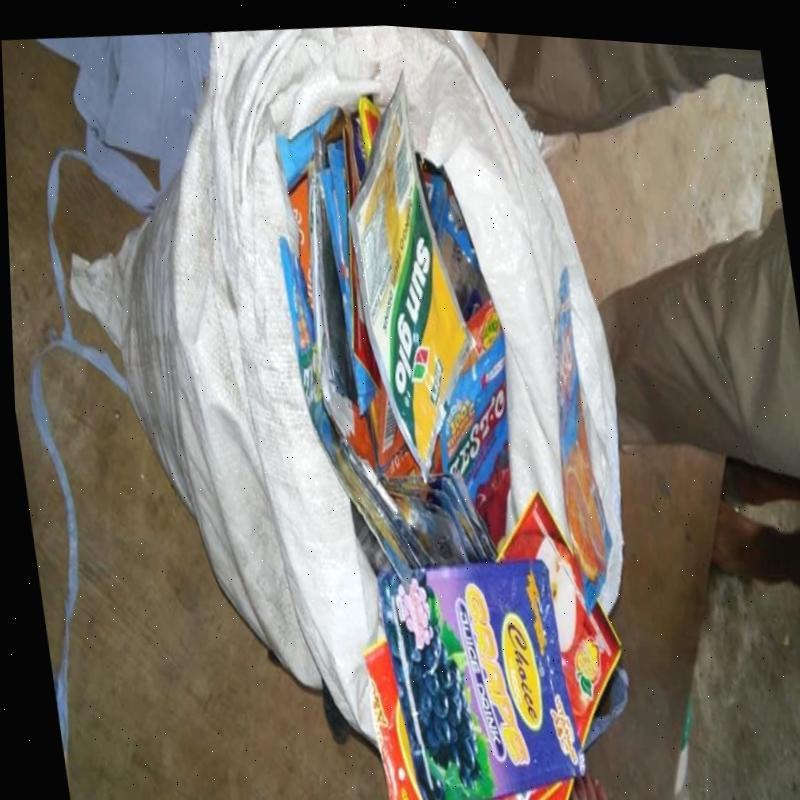food wrapper: (374, 559, 584, 800), (346, 70, 468, 480), (278, 235, 412, 581), (552, 265, 611, 606), (439, 300, 506, 508)
